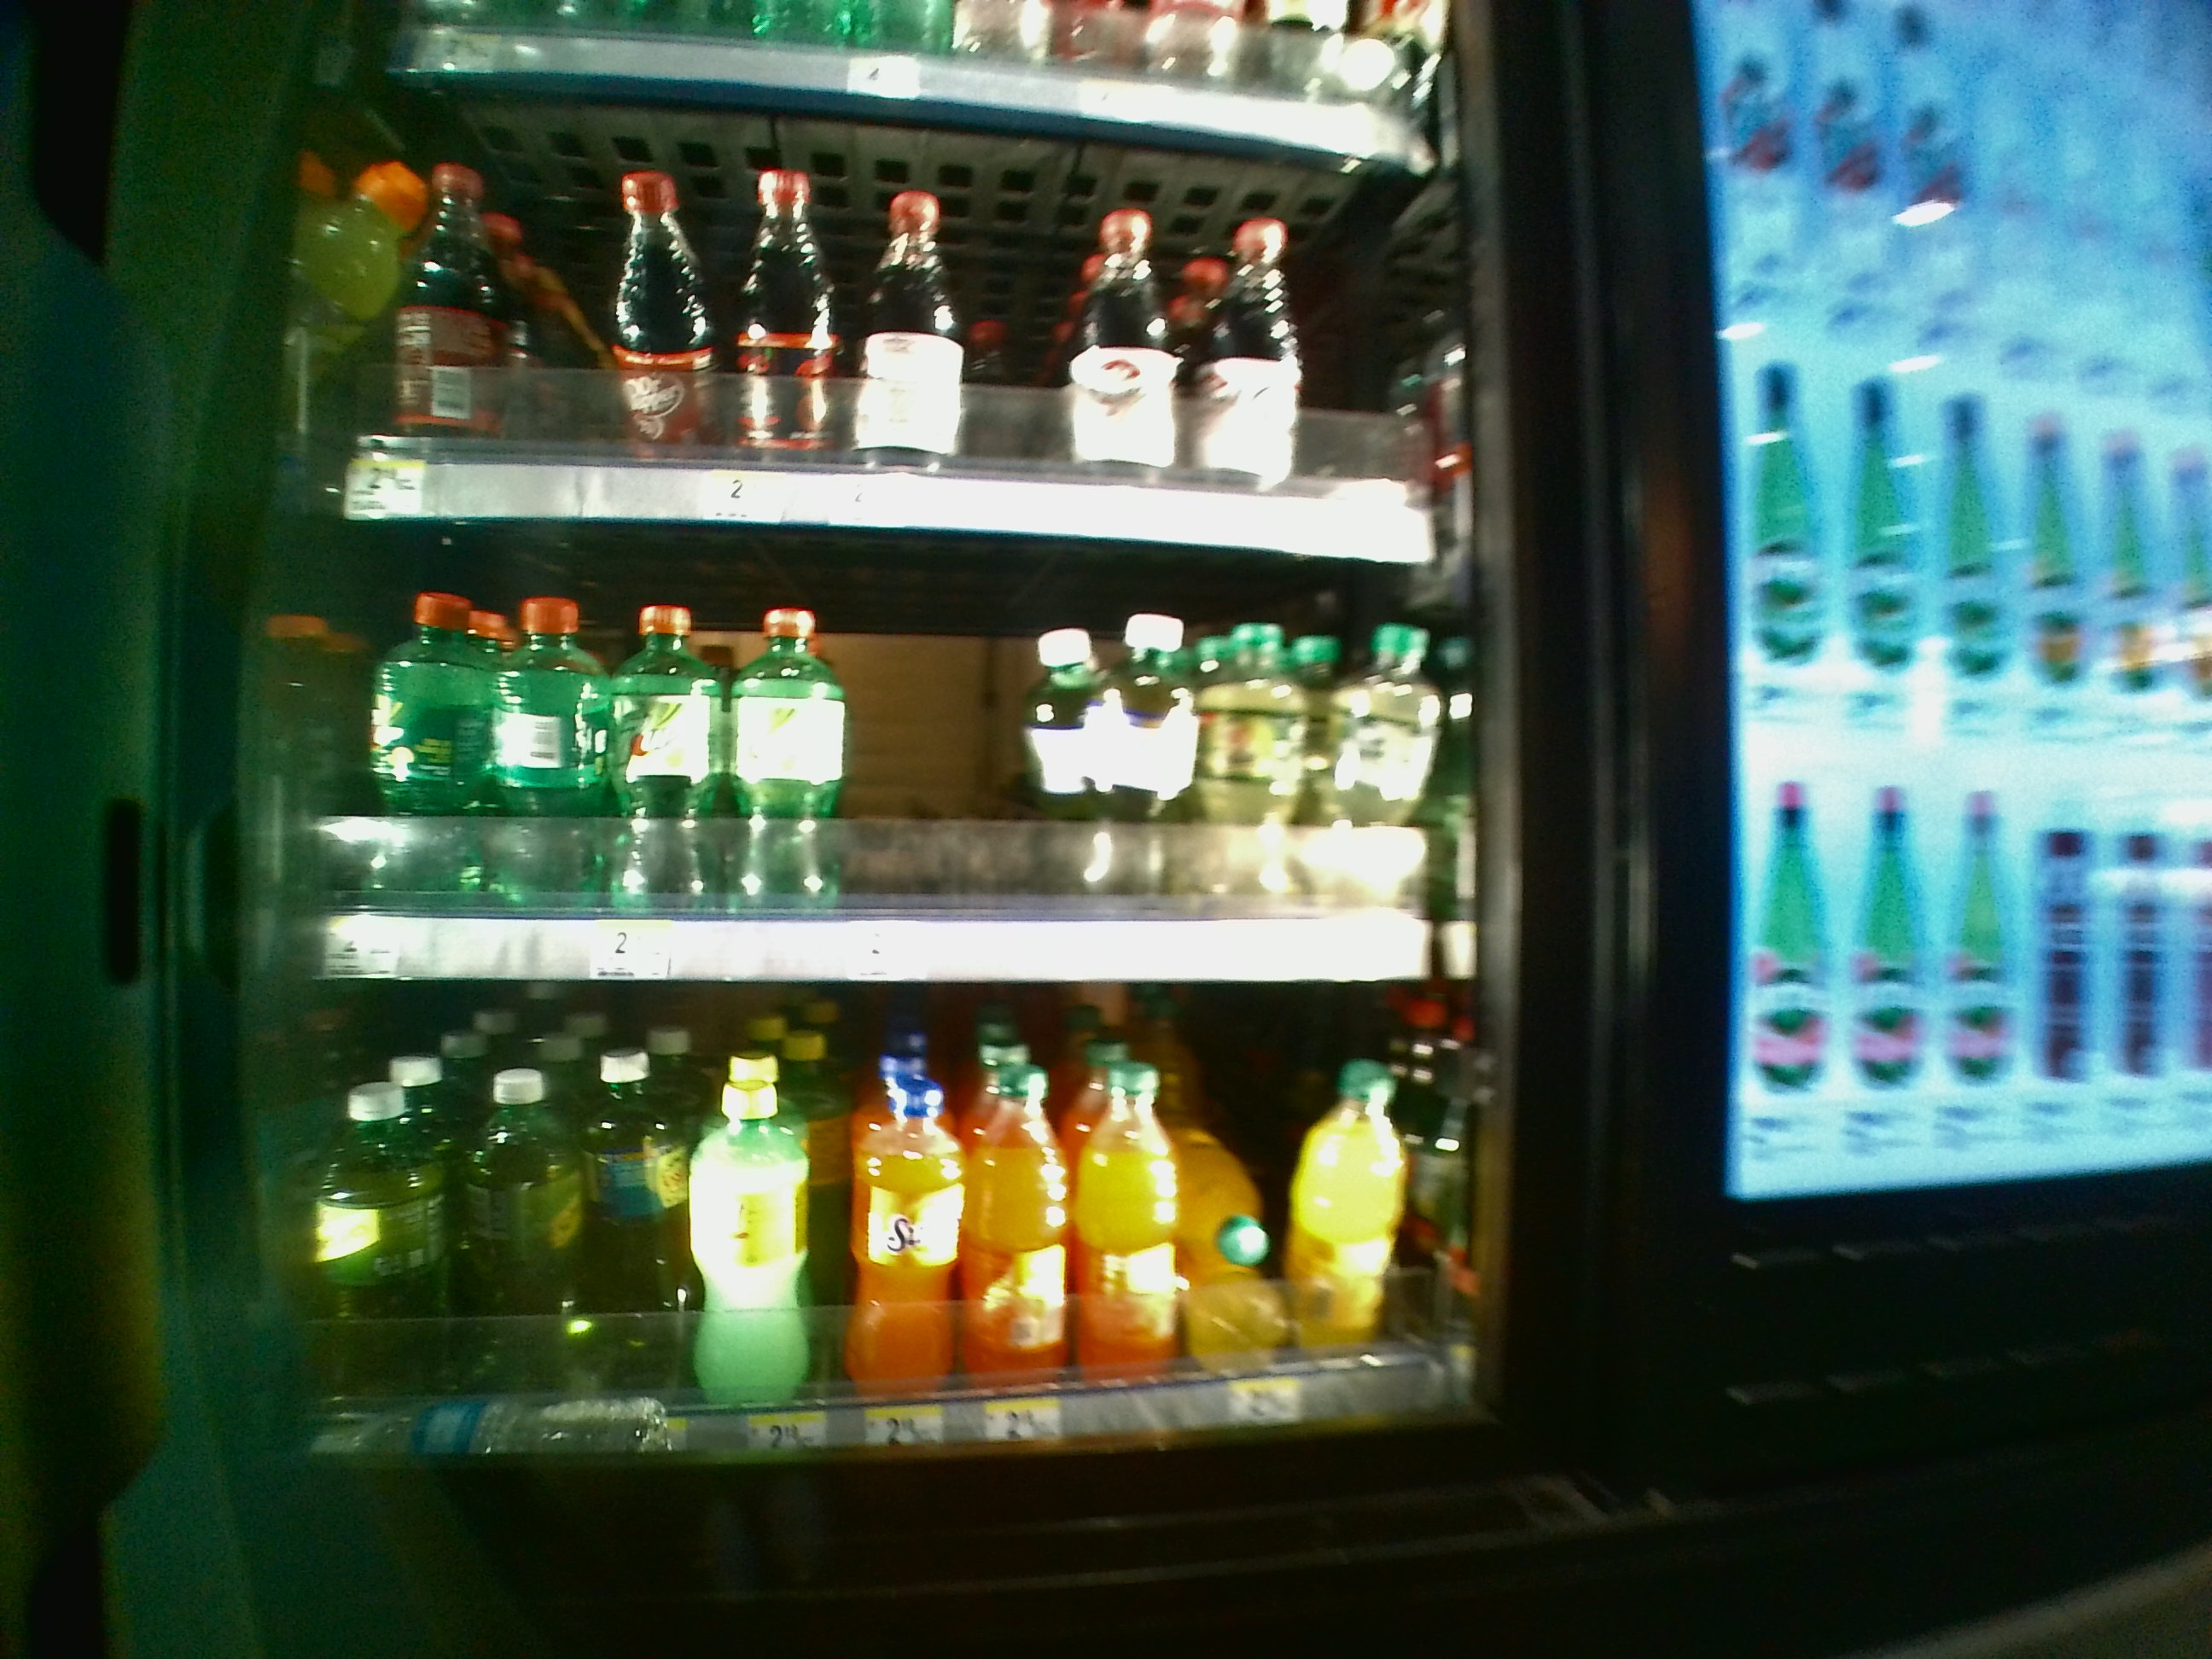shelf: (289, 983, 1503, 1476), (291, 511, 1491, 983)
